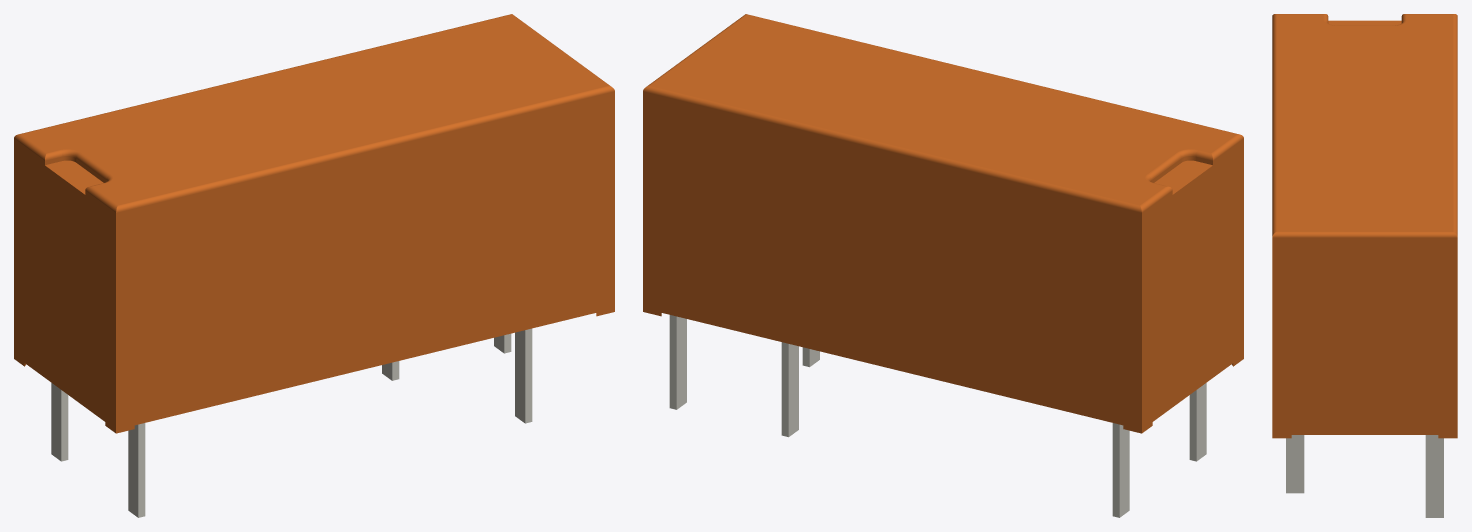
Rendered from kc-relay_1-form-c_schrack-ryii_rm3.2mm.glb.
The picture shows the model from 3 angles, left to right: view 1: azimuth 30°, elevation 25°; view 2: azimuth 150°, elevation 25°; view 3: azimuth 270°, elevation 25°; orthographic projection. The views are drawn at different scales.
Parts seen in each view (by area): view 1: 0.5833333333333334_0.16666666666666666_0_0, 0.6666666666666666_0.6666666666666666_0.5833333333333334_0.8; view 2: 0.5833333333333334_0.16666666666666666_0_0, 0.6666666666666666_0.6666666666666666_0.5833333333333334_0.8; view 3: 0.5833333333333334_0.16666666666666666_0_0, 0.6666666666666666_0.6666666666666666_0.5833333333333334_0.8.
Boxes of the visible parts, x1,y1,x2,y2 form: 0.5833333333333334_0.16666666666666666_0_0: (14, 14, 614, 433); 0.6666666666666666_0.6666666666666666_0.5833333333333334_0.8: (51, 328, 532, 517); 0.5833333333333334_0.16666666666666666_0_0: (643, 14, 1243, 433); 0.6666666666666666_0.6666666666666666_0.5833333333333334_0.8: (669, 315, 1206, 517); 0.5833333333333334_0.16666666666666666_0_0: (1272, 14, 1457, 438); 0.6666666666666666_0.6666666666666666_0.5833333333333334_0.8: (1286, 435, 1443, 517).
Bounding box in the file's own units: 2.85 × 1.76 × 1.01.
